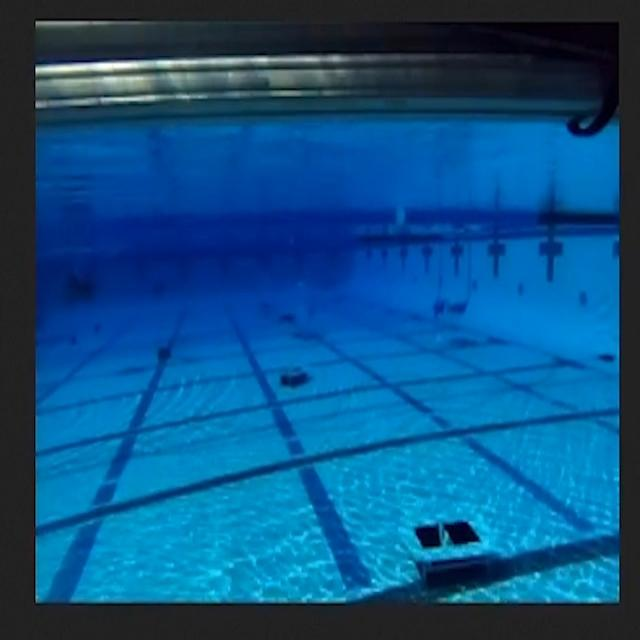Bin: (398, 498, 511, 597)
